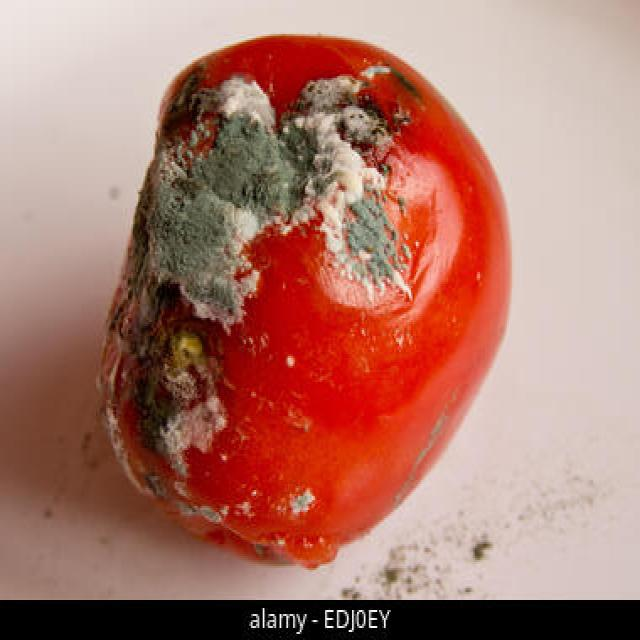Rotten: (106, 34, 514, 563)
